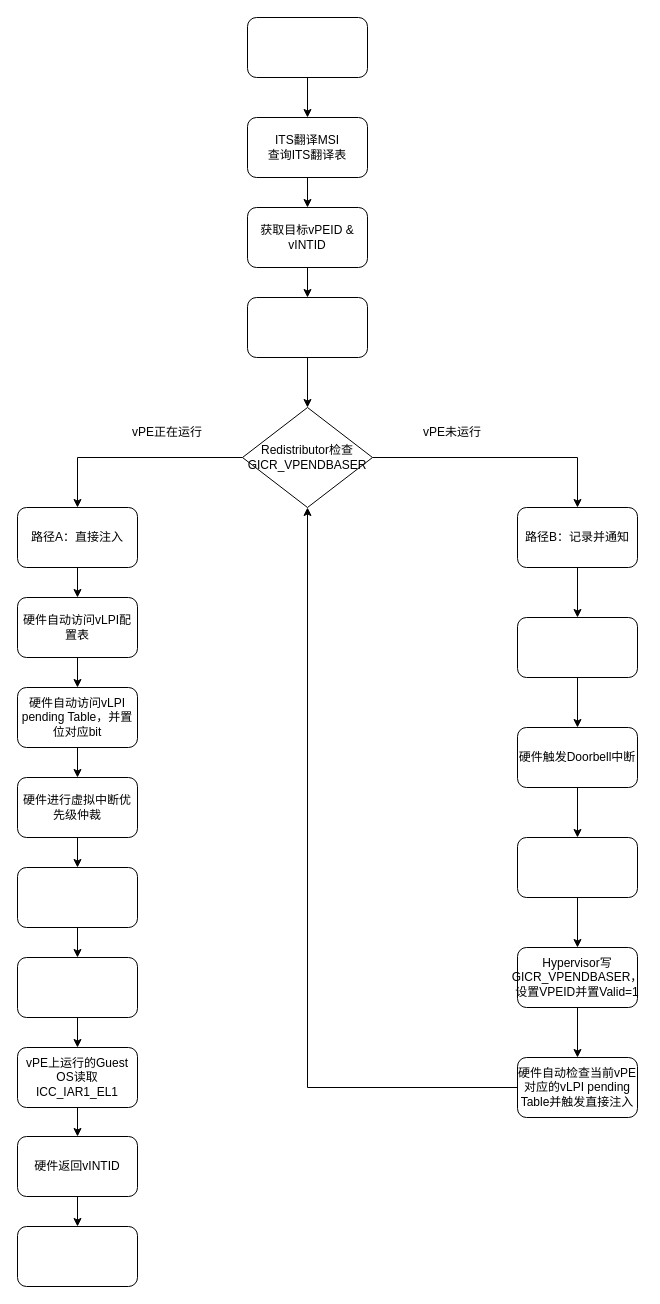
This 660x1304 diagram has some shape labels left out. Each missing label, with the centre of its shape:
Guest OS处理中断: (77,1256)
Hypervisor介入调度目标vPE运行: (577,867)
ITS将中断请求转发给目标Redisbutor: (307,327)
MSI到达ITS: (307,47)
硬件将INTID提交给vCPU Interface: (77,897)
硬件断言vIRQ/vFIQ信号: (77,987)
硬件更新vLPI Pending Table，将vINTID对应的位置1: (577,647)
